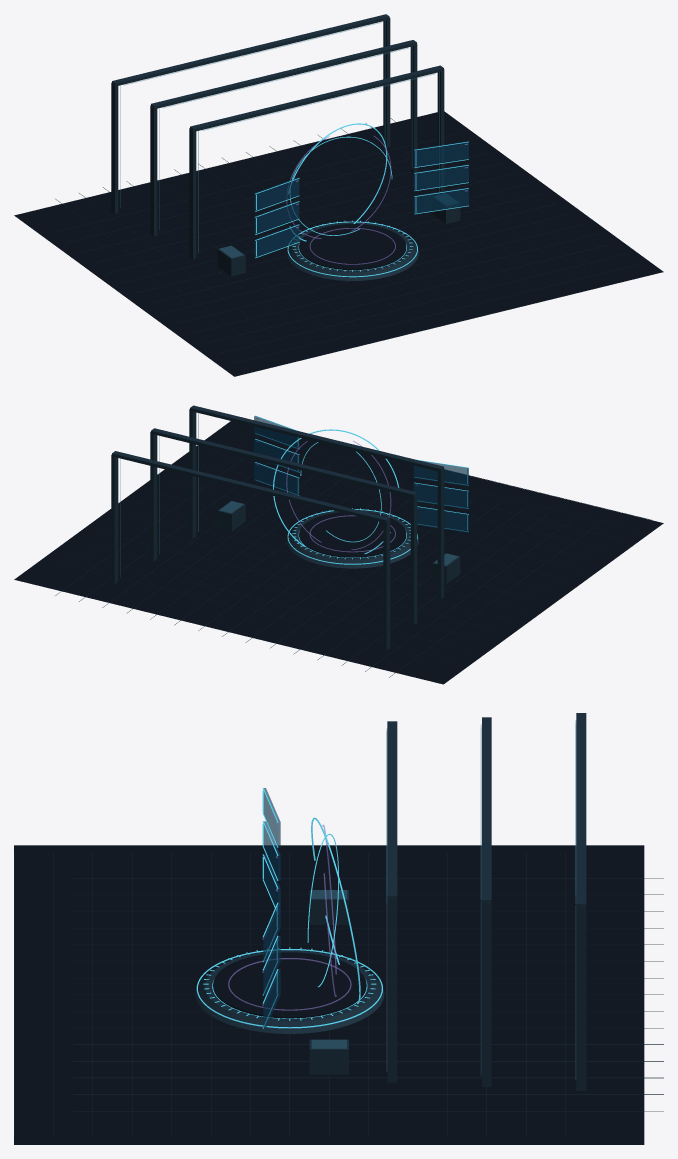
File: f2r-environment.glb
3 views of the same model, one above another, from view 1: azimuth 30°, elevation 25°; view 2: azimuth 150°, elevation 25°; view 3: azimuth 270°, elevation 25° (orthographic). The views are drawn at different scales.
Visible parts, largest first — view 1: 03_RESEARCH_FACILITY, 01_CENTRAL_STAGE, service_5, service_4, service_3, service_2, service_1, service_0; view 2: 03_RESEARCH_FACILITY, 01_CENTRAL_STAGE, service_1, service_2, service_5, service_0, service_4, service_3, orbit_2; view 3: 03_RESEARCH_FACILITY, 01_CENTRAL_STAGE, orbit_2.
Part boxes in pixels (left/top/right/bottom): 03_RESEARCH_FACILITY: left=14, top=14, right=663, bottom=376; 01_CENTRAL_STAGE: left=286, top=220, right=418, bottom=280; service_5: left=413, top=187, right=468, bottom=214; service_4: left=413, top=164, right=468, bottom=191; service_3: left=413, top=141, right=468, bottom=167; service_2: left=254, top=224, right=299, bottom=258; service_1: left=254, top=201, right=299, bottom=234; service_0: left=254, top=178, right=299, bottom=211; 03_RESEARCH_FACILITY: left=14, top=405, right=663, bottom=684; 01_CENTRAL_STAGE: left=286, top=508, right=418, bottom=568; service_1: left=413, top=482, right=468, bottom=509; service_2: left=417, top=506, right=468, bottom=532; service_5: left=254, top=462, right=299, bottom=495; service_0: left=413, top=459, right=468, bottom=485; service_4: left=254, top=439, right=299, bottom=472; service_3: left=254, top=415, right=299, bottom=449; orbit_2: left=273, top=429, right=399, bottom=553; 03_RESEARCH_FACILITY: left=14, top=713, right=663, bottom=1144; 01_CENTRAL_STAGE: left=195, top=947, right=384, bottom=1033; orbit_2: left=311, top=817, right=360, bottom=1003.
Size of the model in its own units: 18 by 5.26 by 16.5.
